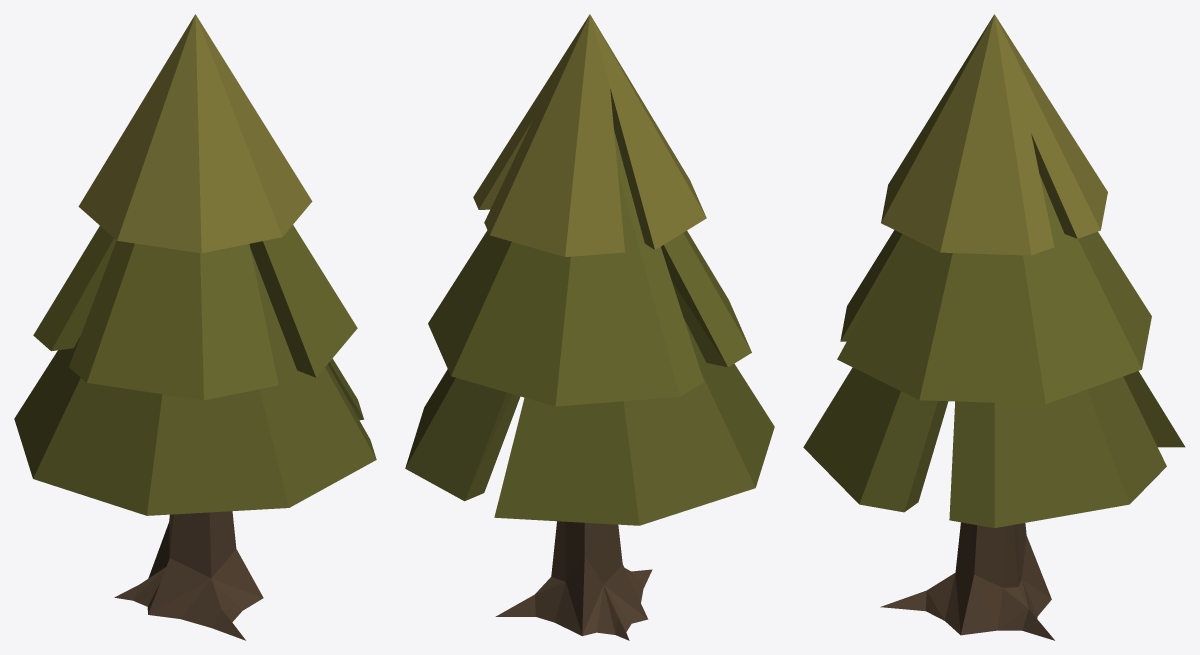
Rendered from Tree_B_02.FBX.
3 views of the same model, side by side, from view 1: azimuth 30°, elevation 25°; view 2: azimuth 150°, elevation 25°; view 3: azimuth 270°, elevation 25° (orthographic).
Parts seen in each view (by area): view 1: Tree_B_02; view 2: Tree_B_02; view 3: Tree_B_02.
Boxes of the visible parts, x1,y1,x2,y2 form: Tree_B_02: [14, 14, 376, 640]; Tree_B_02: [405, 14, 774, 640]; Tree_B_02: [803, 14, 1185, 640].
Size of the model in its own units: 2.76 by 4.74 by 2.76.
